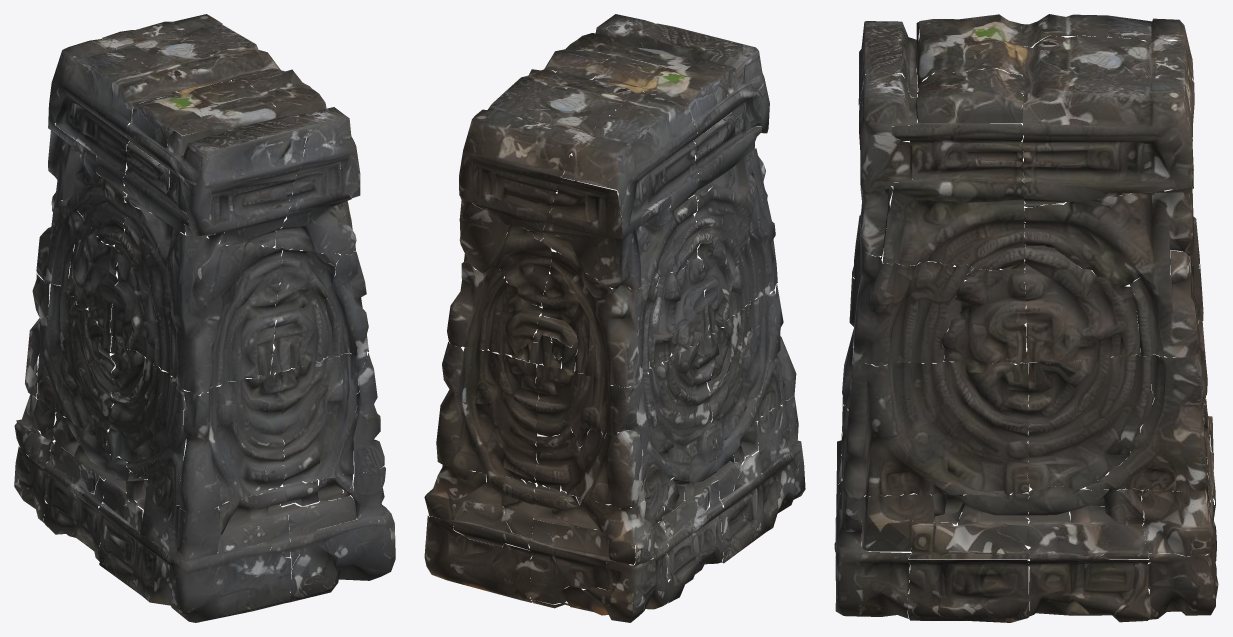
File: ruin_pillar_vaelor_LOD1.glb
3 views of the same model, side by side, from view 1: azimuth 30°, elevation 25°; view 2: azimuth 150°, elevation 25°; view 3: azimuth 270°, elevation 25° (orthographic). The views are drawn at different scales.
Visible parts, largest first — view 1: tripo_node_f299f018-ef50-4f2a-830b-34e6a2a2bba3; view 2: tripo_node_f299f018-ef50-4f2a-830b-34e6a2a2bba3; view 3: tripo_node_f299f018-ef50-4f2a-830b-34e6a2a2bba3.
Boxes of the visible parts, x1,y1,x2,y2 form: tripo_node_f299f018-ef50-4f2a-830b-34e6a2a2bba3: [14, 14, 395, 622]; tripo_node_f299f018-ef50-4f2a-830b-34e6a2a2bba3: [424, 14, 805, 622]; tripo_node_f299f018-ef50-4f2a-830b-34e6a2a2bba3: [834, 14, 1218, 622].
Bounding box in the file's own units: 0.4911 × 0.9993 × 0.6746.
Materials: 1 (1 with a texture image).
